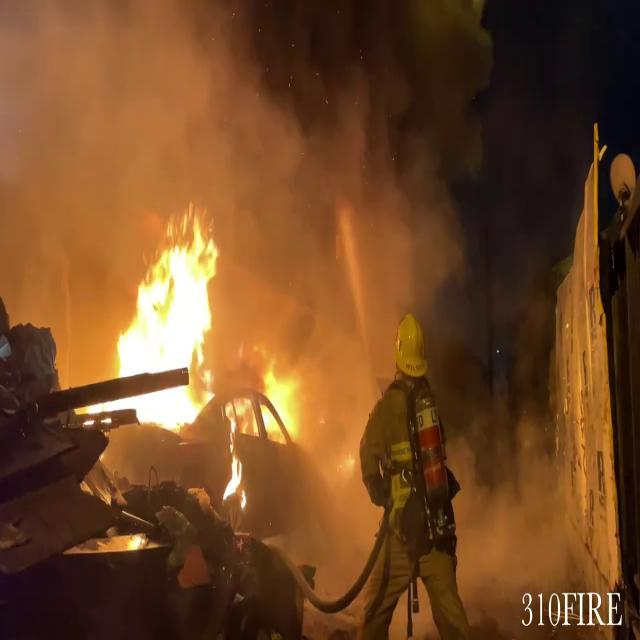Fire: (106, 210, 222, 424), (221, 354, 307, 500)
Smoke: (284, 0, 550, 396), (0, 0, 318, 283), (446, 386, 612, 616)
